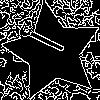I: (27, 27, 75, 60)
